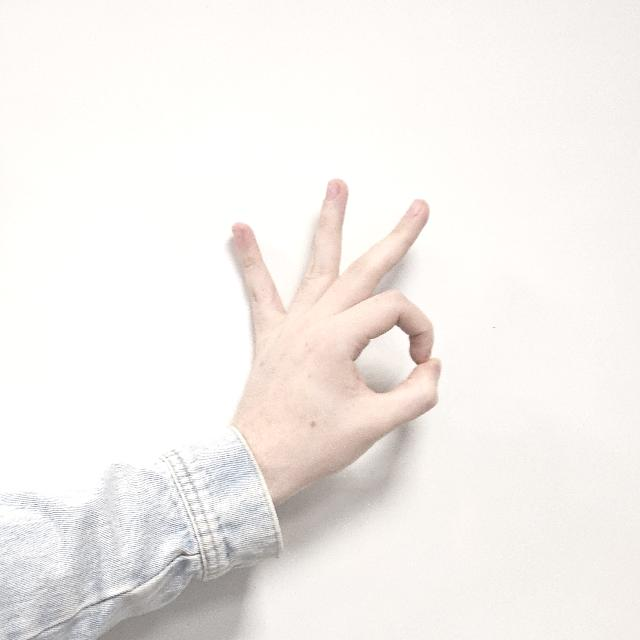Bolinha: (205, 174, 463, 516)
